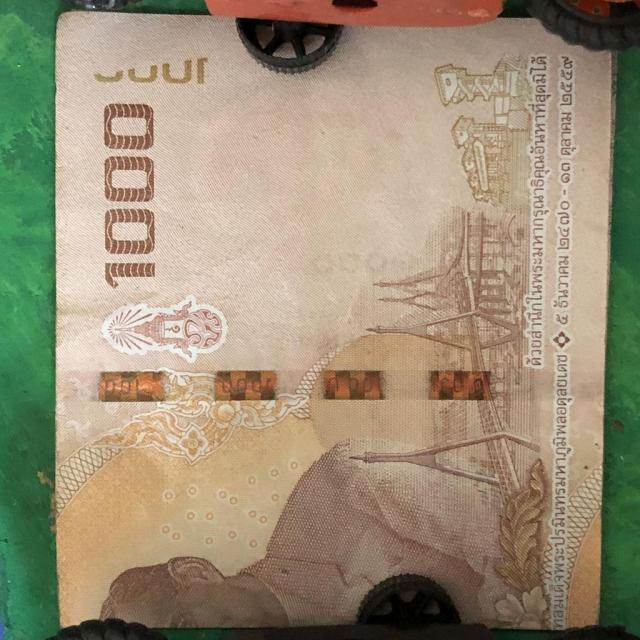THAI1000: (54, 12, 614, 629)
